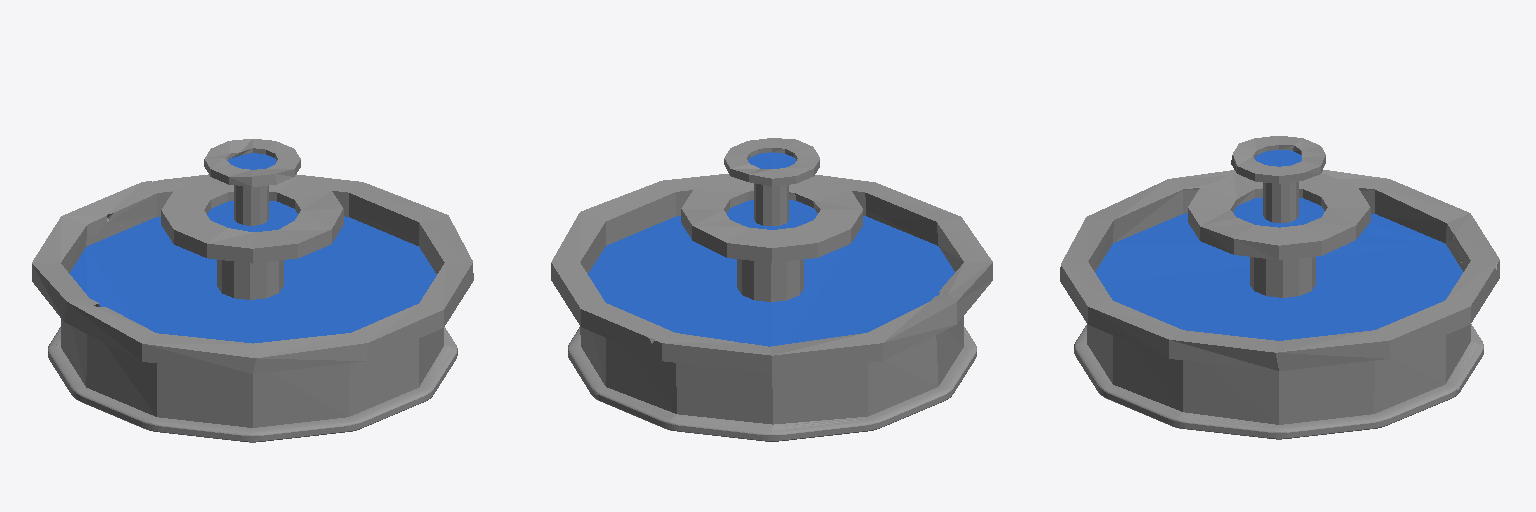
3 renders of one model, left to right at view 1: azimuth 30°, elevation 25°; view 2: azimuth 150°, elevation 25°; view 3: azimuth 270°, elevation 25°, orthographic.
Visible parts, largest first — view 1: Cylinder.002_Cylinder.003; view 2: Cylinder.002_Cylinder.003; view 3: Cylinder.002_Cylinder.003.
Boxes of the visible parts, box(x1,y1,x2,y2) form: Cylinder.002_Cylinder.003: box(32, 139, 473, 442); Cylinder.002_Cylinder.003: box(551, 138, 992, 441); Cylinder.002_Cylinder.003: box(1060, 136, 1499, 439).
Bounding box in the file's own units: 3.63 × 1.83 × 3.64.
Materials: 2 (2 with a texture image).